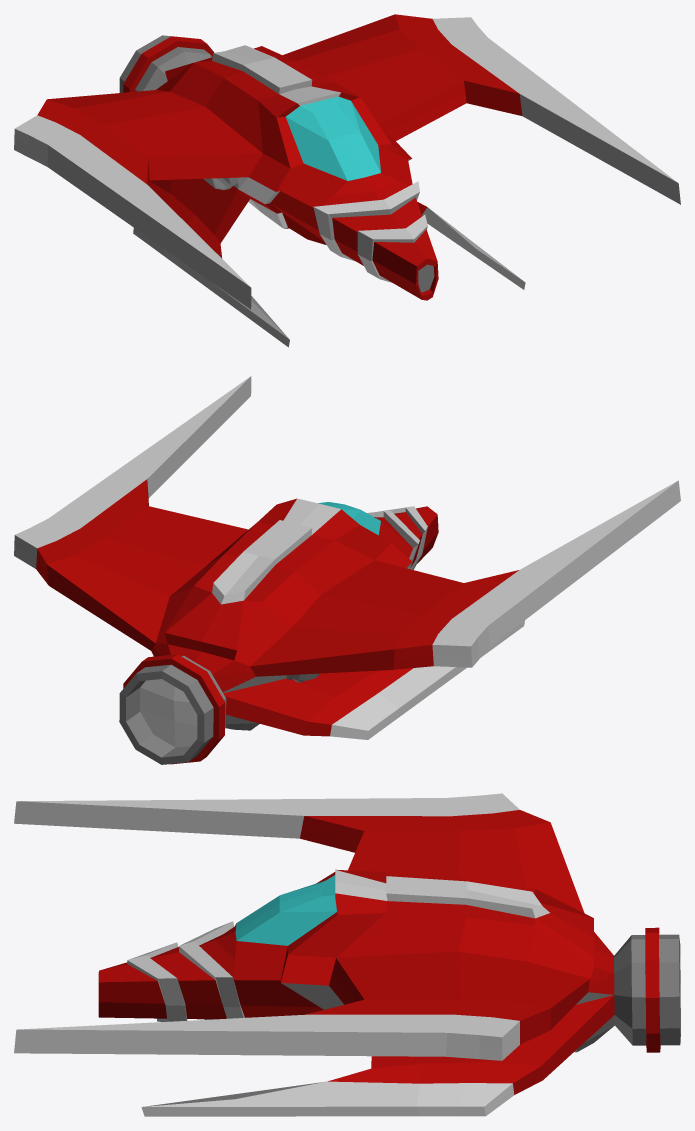
The model's file is Fighter prototype 5.fbx.
The picture shows the model from 3 angles, top to bottom: view 1: azimuth 30°, elevation 25°; view 2: azimuth 150°, elevation 25°; view 3: azimuth 270°, elevation 25°; orthographic projection. The views are drawn at different scales.
Visible parts, largest first — view 1: red fighter; view 2: red fighter; view 3: red fighter.
Boxes of the visible parts, x1=… form: red fighter: x1=14, y1=14, x2=680, y2=347; red fighter: x1=14, y1=376, x2=680, y2=764; red fighter: x1=14, y1=793, x2=680, y2=1116.
Size of the model in its own units: 82.02 by 94.48 by 26.96.
